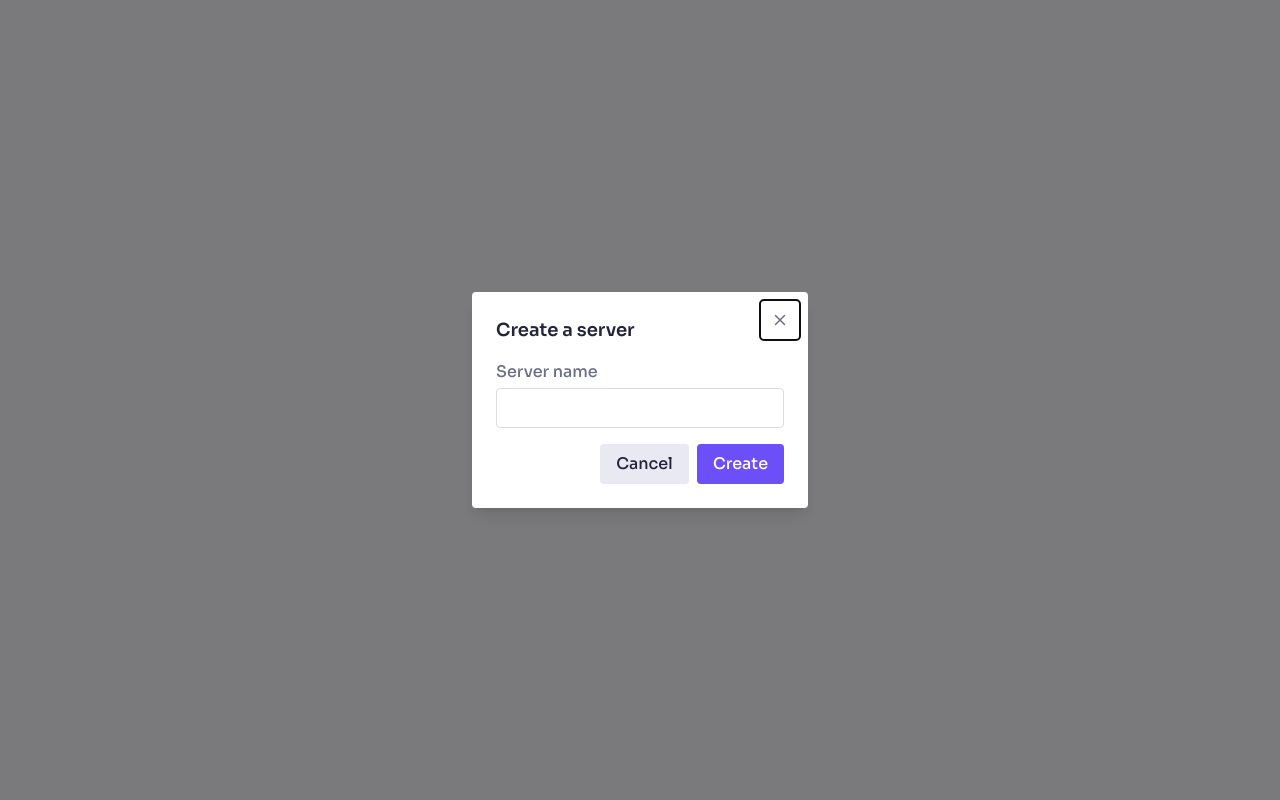
Test: CreateServerModal › shows the backend error message when creation fails
The image size is (1280, 800).
Type "My Server" into the field labelled "Server name" at coordinates (640, 408), box x1=496 y1=388 x2=784 y2=428
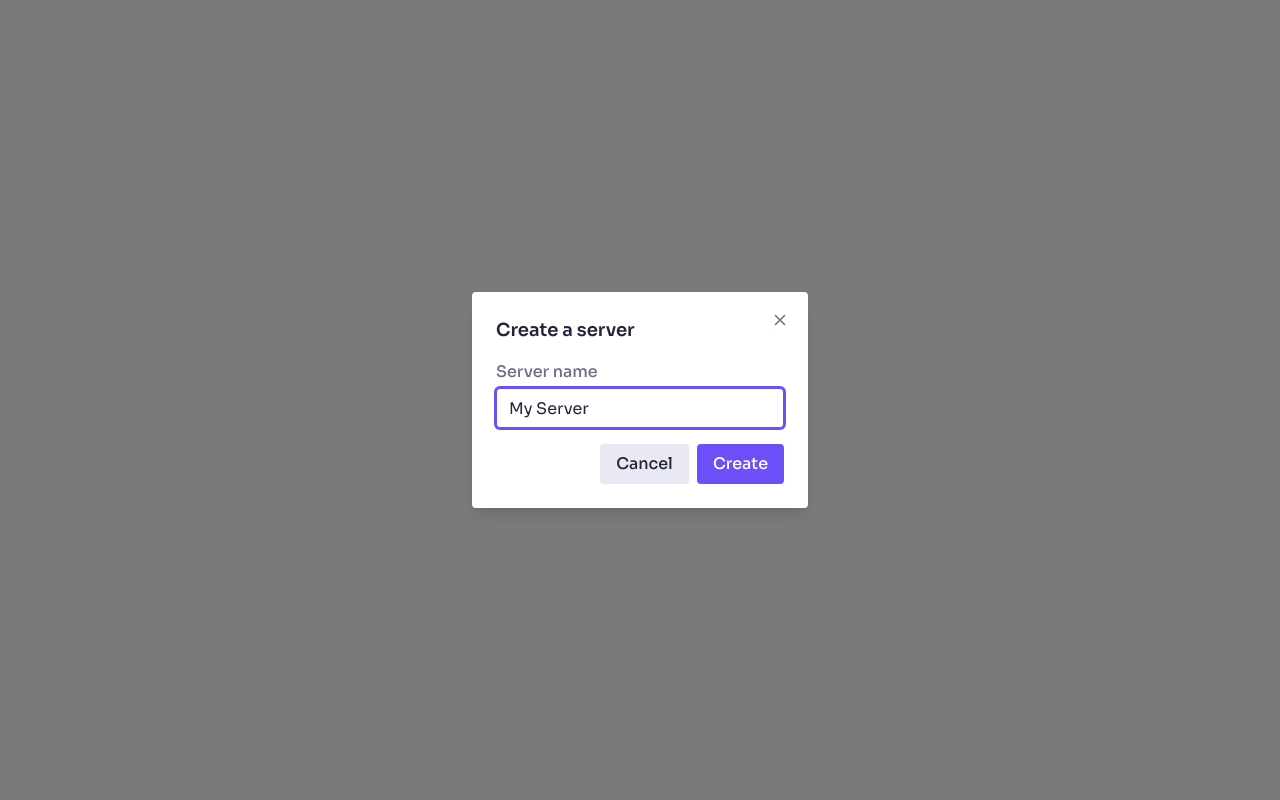
Click the button "Create" at coordinates (740, 464), box x1=697 y1=444 x2=784 y2=484
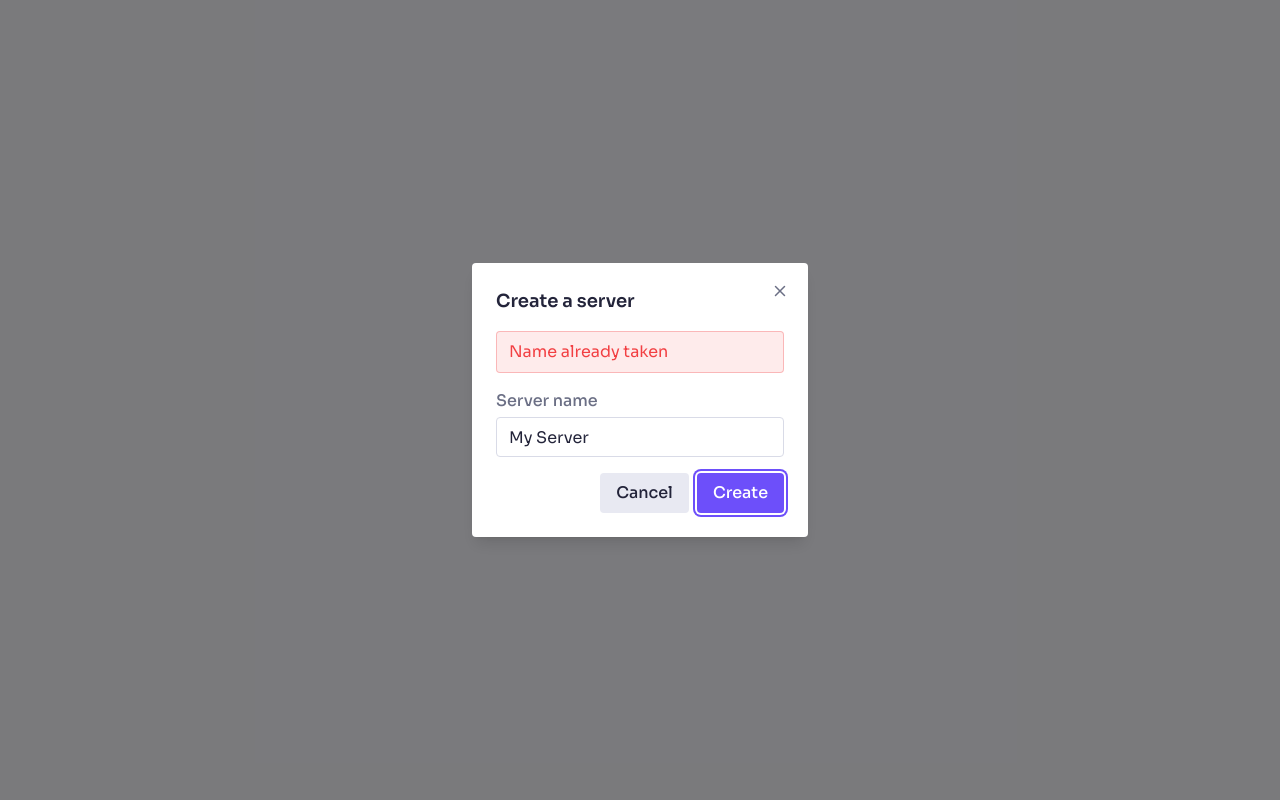
expect the message reads "Name already taken": met, box x1=509 y1=341 x2=668 y2=362
